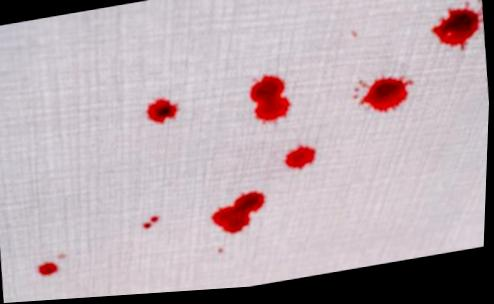Fire: (430, 9, 484, 57), (211, 194, 267, 238), (249, 77, 293, 129), (358, 80, 414, 119), (146, 101, 180, 127), (285, 149, 318, 174), (39, 263, 61, 277), (150, 218, 160, 225), (144, 225, 153, 231)
